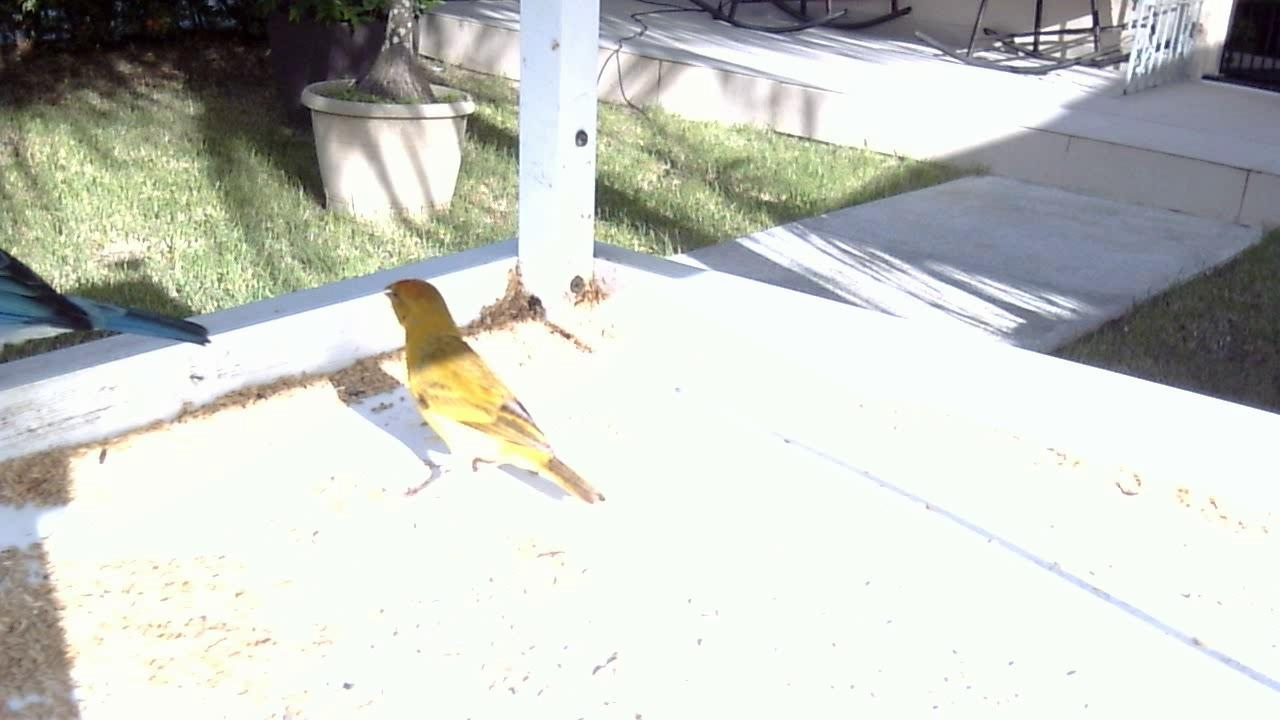canario_do_amazonas: (367, 272, 611, 512)
sanhaco_da_amazonia: (1, 230, 215, 406)
